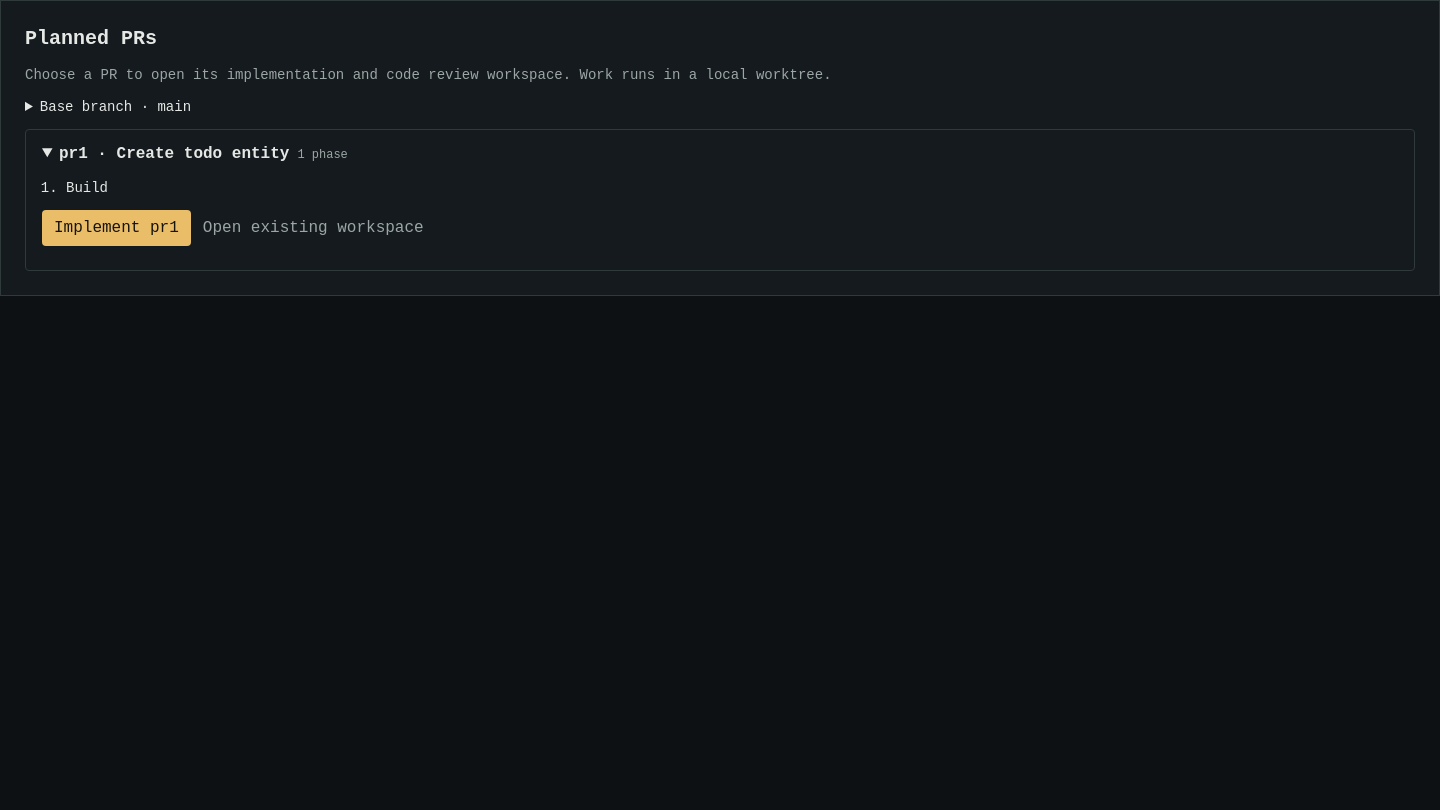
invalidates confirmation after a base change
This screenshot has width=1440, height=810.
Later steps or results of the test are not shown.
Click the button "Implement pr1": (116, 228) [42,210,191,246]
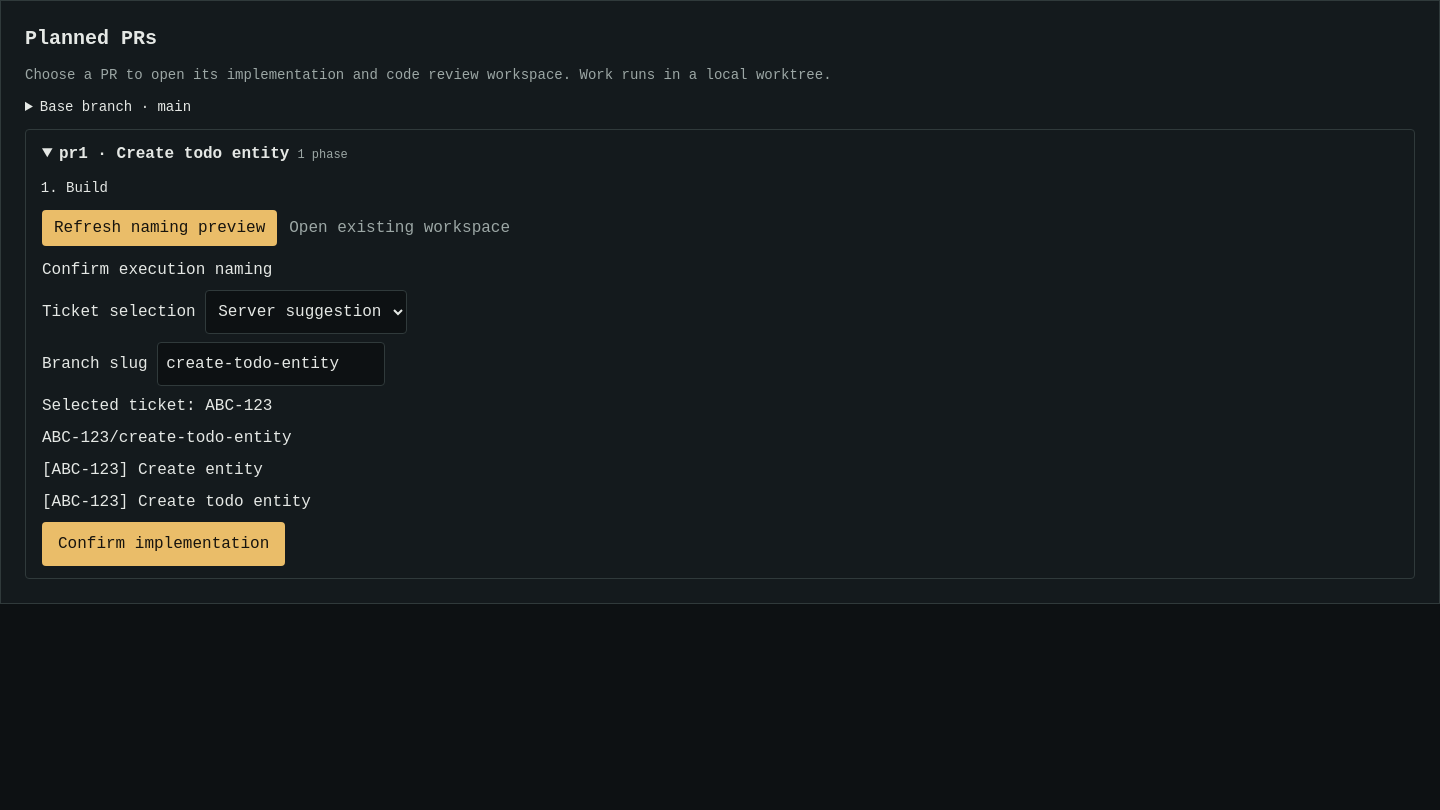
Result: the button "Confirm implementation" is enabled at [42,522,285,566]
Click the heading "Base branch · main": (115, 107) [40,99,191,115]
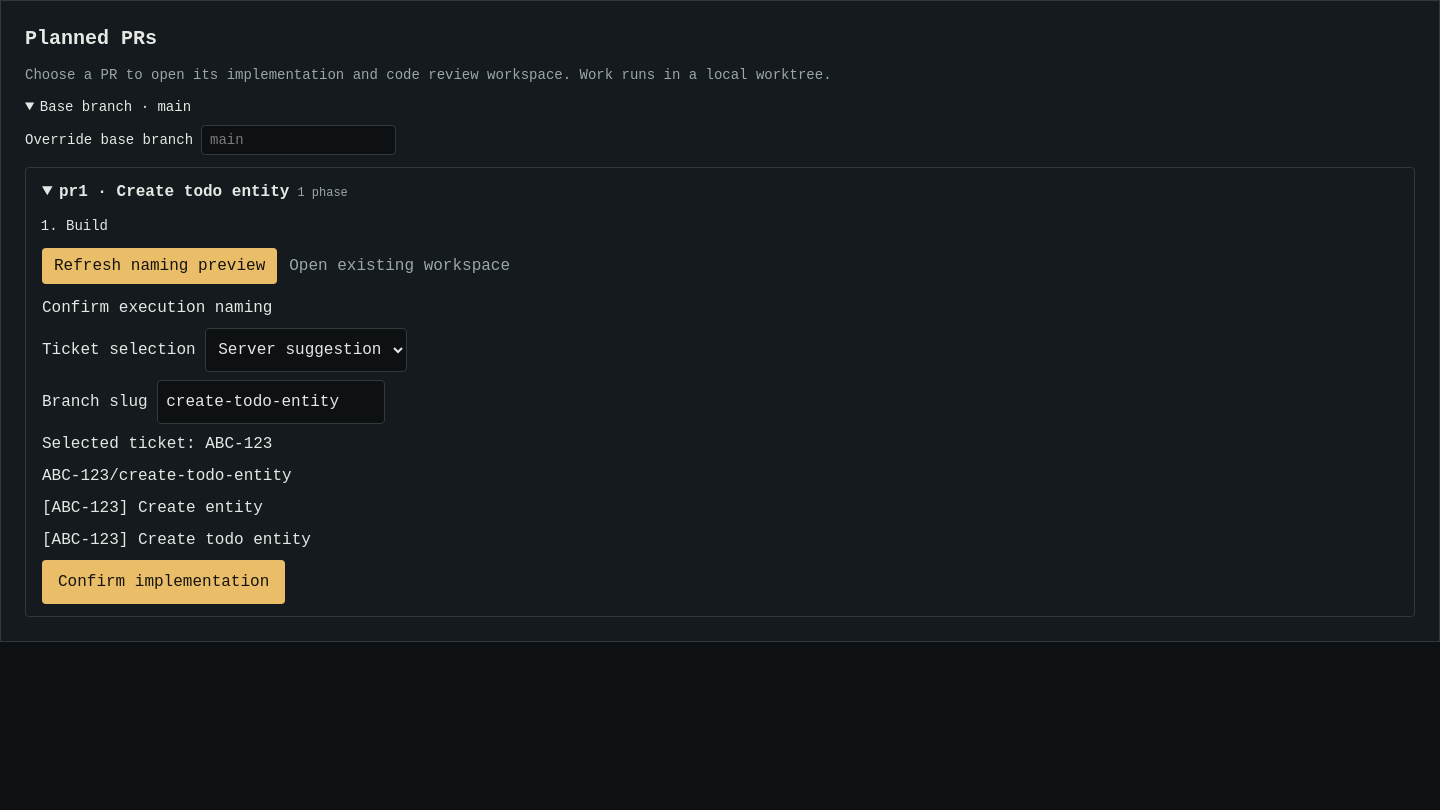
In the field labelled "Override base branch": (298, 140) [201,125,396,155], type "feature"
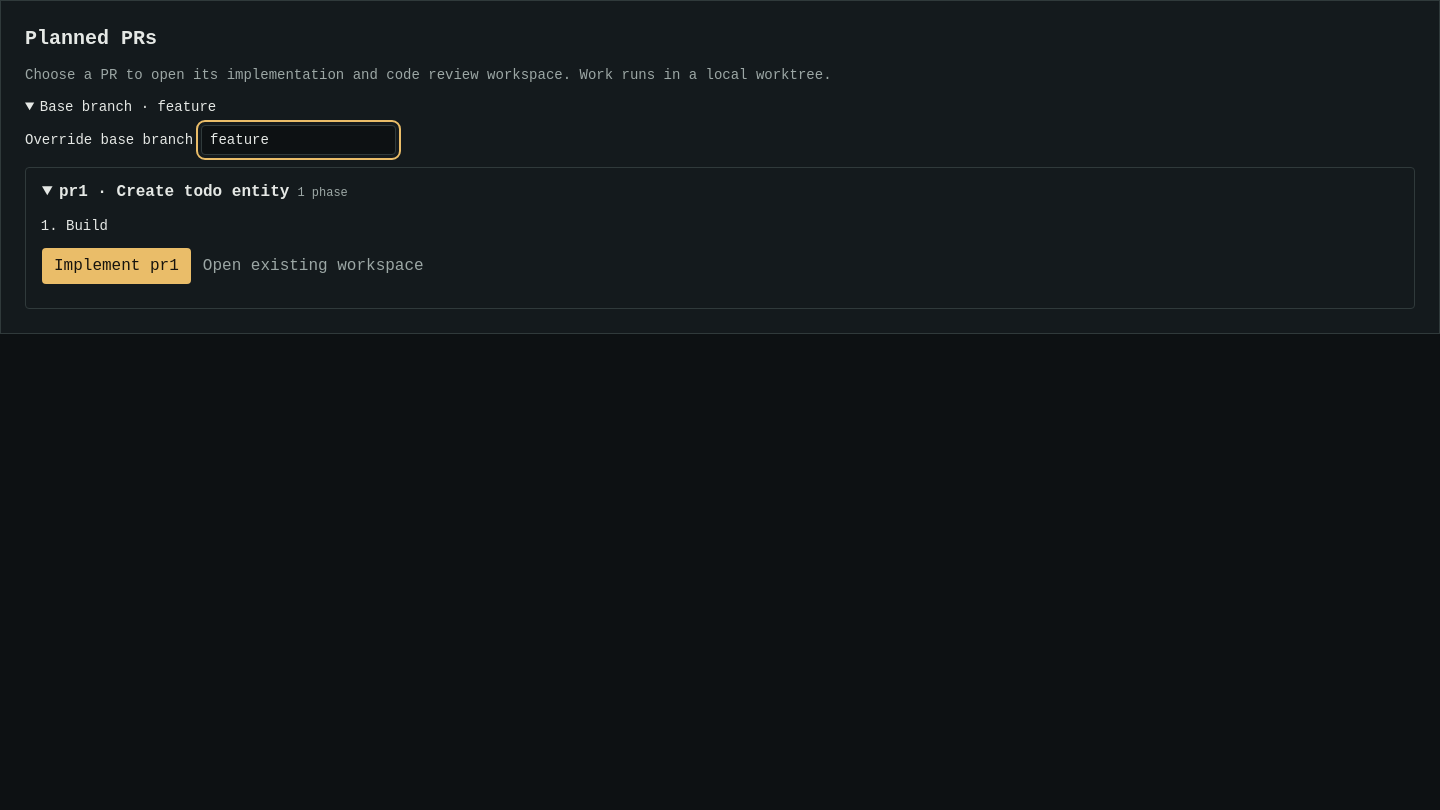
Result: the button "Confirm implementation" is gone
